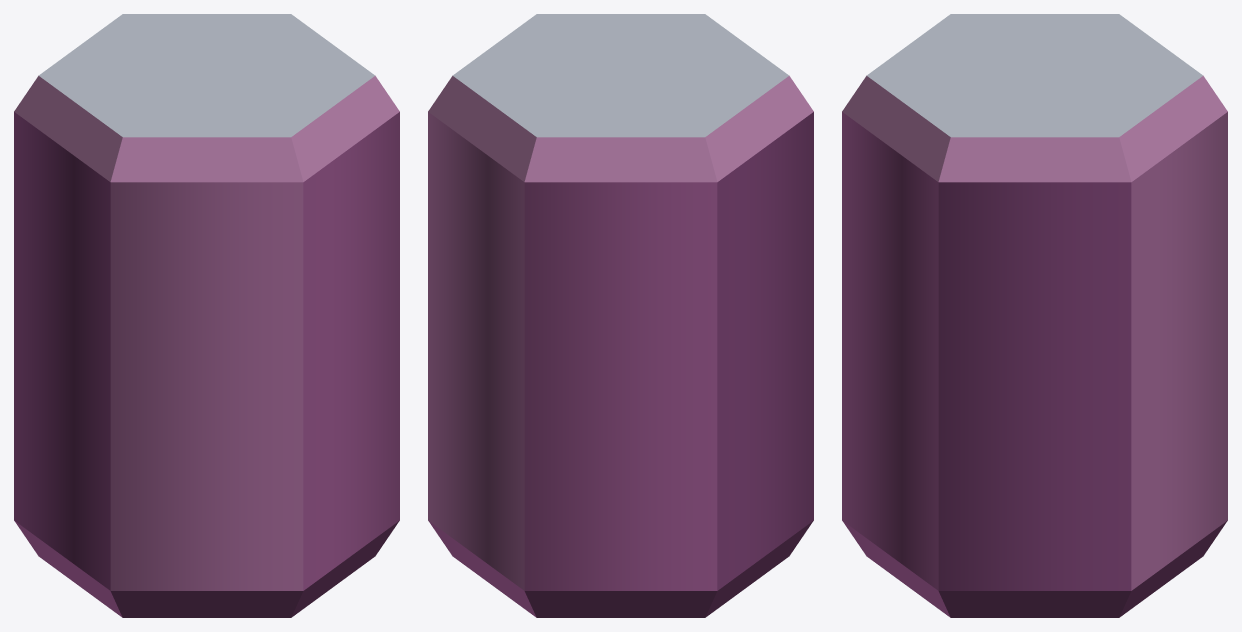
The model's file is Items_SodaCan_03.fbx.
3 renders of one model, left to right at view 1: azimuth 30°, elevation 25°; view 2: azimuth 150°, elevation 25°; view 3: azimuth 270°, elevation 25°, orthographic.
Parts seen in each view (by area): view 1: Soda_can; view 2: Soda_can; view 3: Soda_can.
Boxes of the visible parts, box(x1,y1,x2,y2) form: Soda_can: box(14, 14, 399, 617); Soda_can: box(428, 14, 813, 617); Soda_can: box(842, 14, 1227, 617).
Size of the model in its own units: 6.78 by 7.83 by 10.77.
1 material, 1 textured.
